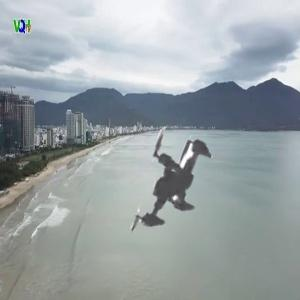drone: (84, 86, 283, 285)
